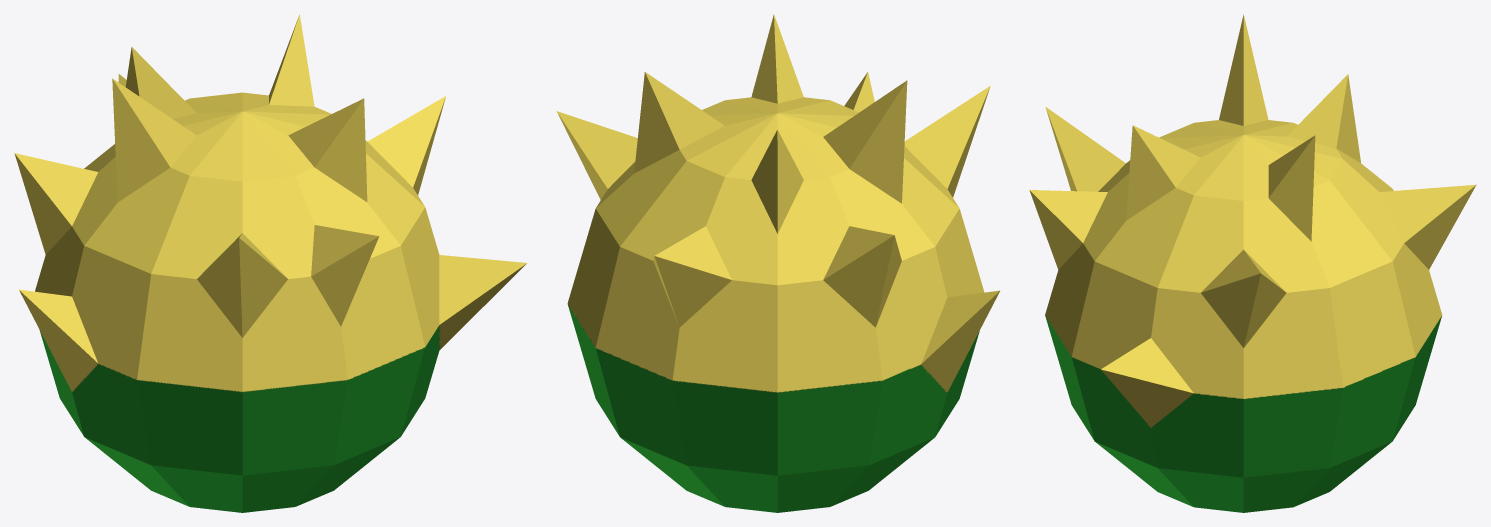
The model's file is yellow.fbx.
3 views of the same model, side by side, from view 1: azimuth 30°, elevation 25°; view 2: azimuth 150°, elevation 25°; view 3: azimuth 270°, elevation 25° (orthographic). The views are drawn at different scales.
Parts seen in each view (by area): view 1: Сфера.001; view 2: Сфера.001; view 3: Сфера.001.
Boxes of the visible parts, x1,y1,x2,y2 form: Сфера.001: (14,14,526,512); Сфера.001: (556,14,999,512); Сфера.001: (1029,14,1476,512).
Bounding box in the file's own units: 239 × 234 × 225.
Materials: 1 (1 with a texture image).
